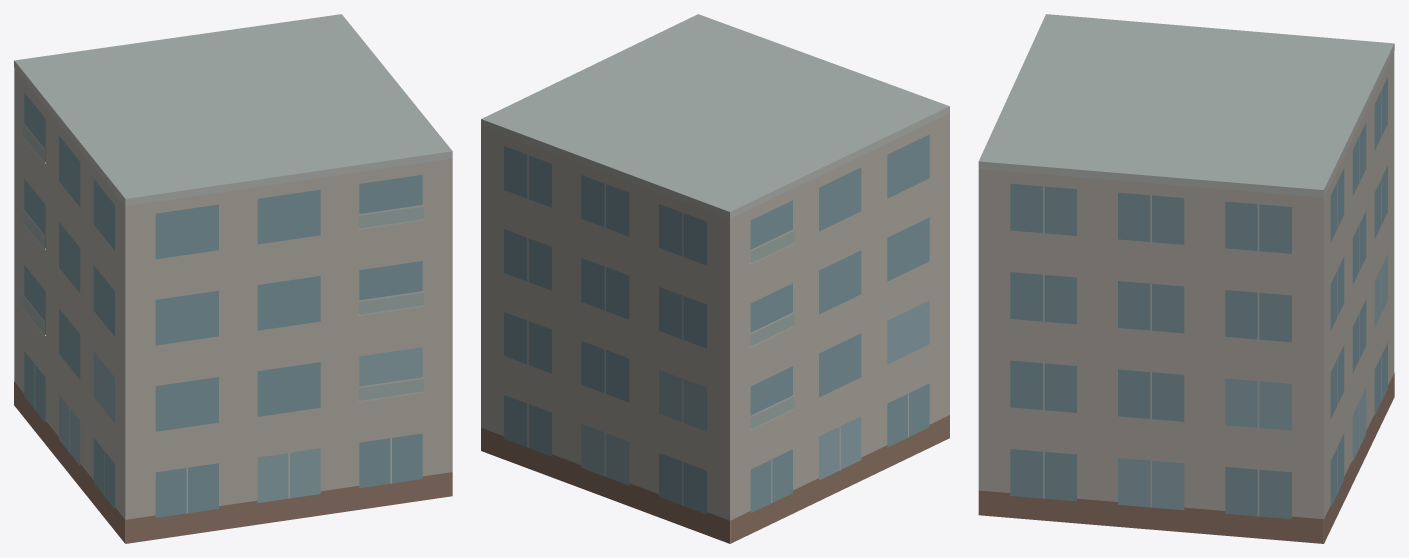
Rendered from survey-upis-32706189.glb.
The picture shows the model from 3 angles, left to right: view 1: azimuth 30°, elevation 25°; view 2: azimuth 150°, elevation 25°; view 3: azimuth 270°, elevation 25°; orthographic projection. The views are drawn at different scales.
Visible parts, largest first — view 1: survey-upis-32706189.tmp; view 2: survey-upis-32706189.tmp; view 3: survey-upis-32706189.tmp.
Boxes of the visible parts, x1=… form: survey-upis-32706189.tmp: x1=14, y1=14, x2=452, y2=543; survey-upis-32706189.tmp: x1=481, y1=14, x2=949, y2=543; survey-upis-32706189.tmp: x1=978, y1=14, x2=1394, y2=543.
Size of the model in its own units: 12.45 by 11.65 by 12.42.
